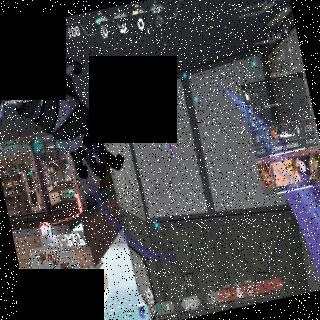ENEMY-BODY: (167, 138, 176, 159)
ENEMY-HEAD: (172, 154, 174, 158)
